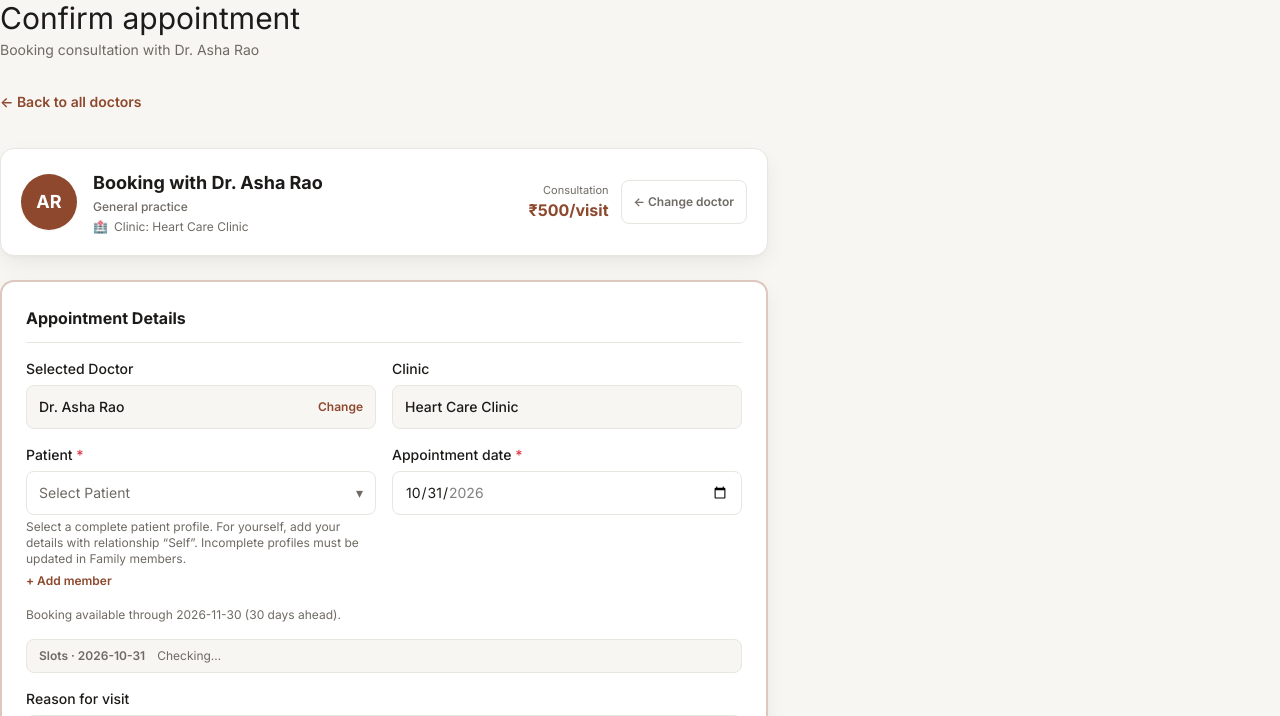
it: Booking › shows the server-provided error message when booking fails, without losing the form
The image size is (1280, 716).
Select "Rohan Mehta · Son" in the dropdown labelled "Patient * Select Patient ▾". click: (201, 480)
box: [26, 445, 376, 515]
(page scrolled)
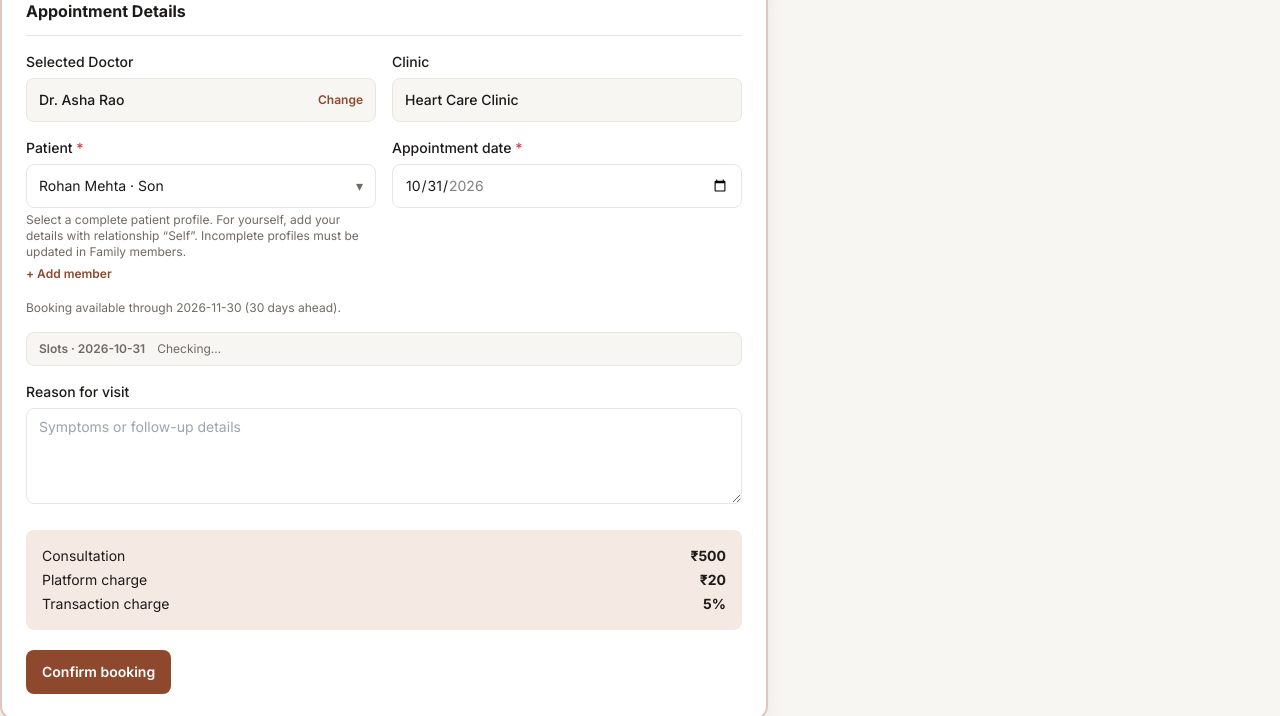
Click the button "Confirm booking". click: click(99, 672)
box: [26, 650, 171, 694]
Wait 1700 ms
(page scrolled)
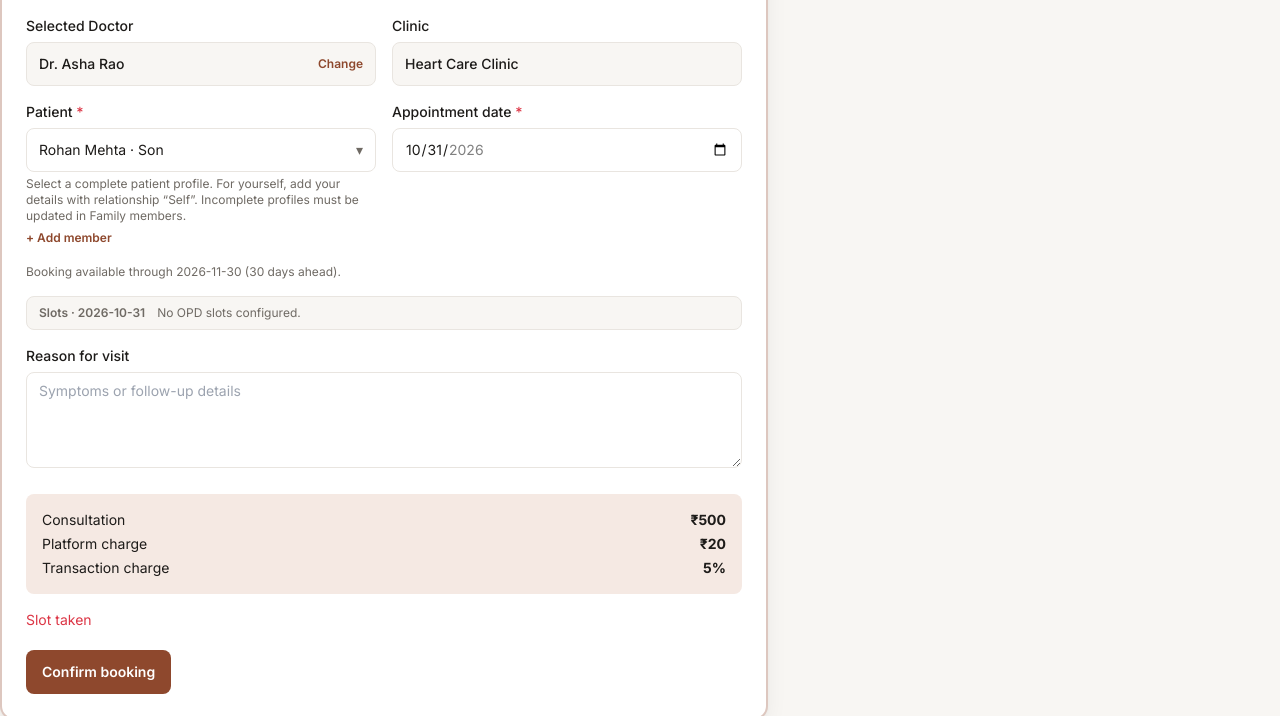
Expected: the text "Slot taken" is shown, [26, 611, 92, 628]
